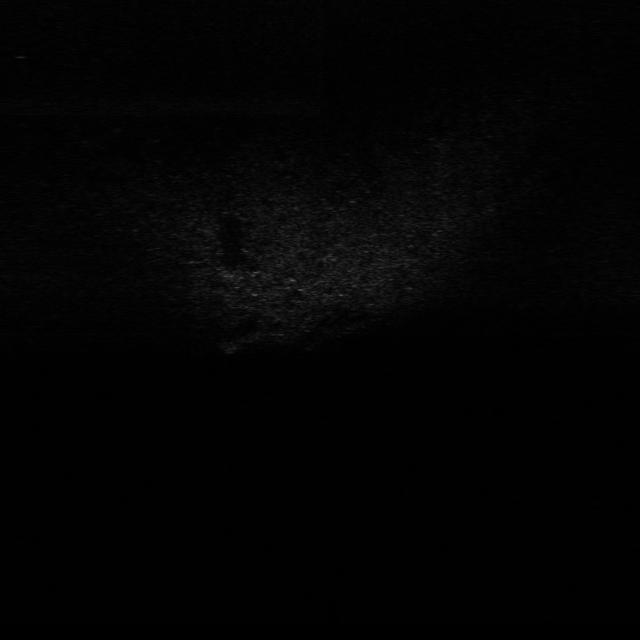cube: (217, 335, 244, 357)
